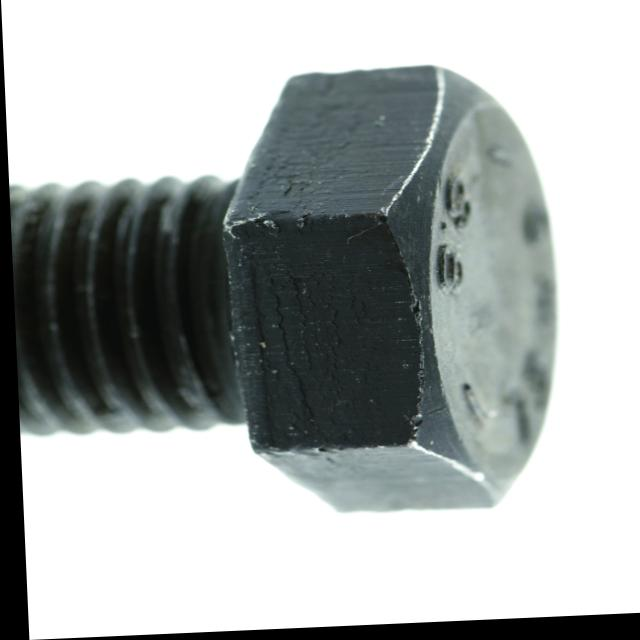Regular bolt: (147, 61, 579, 529)
